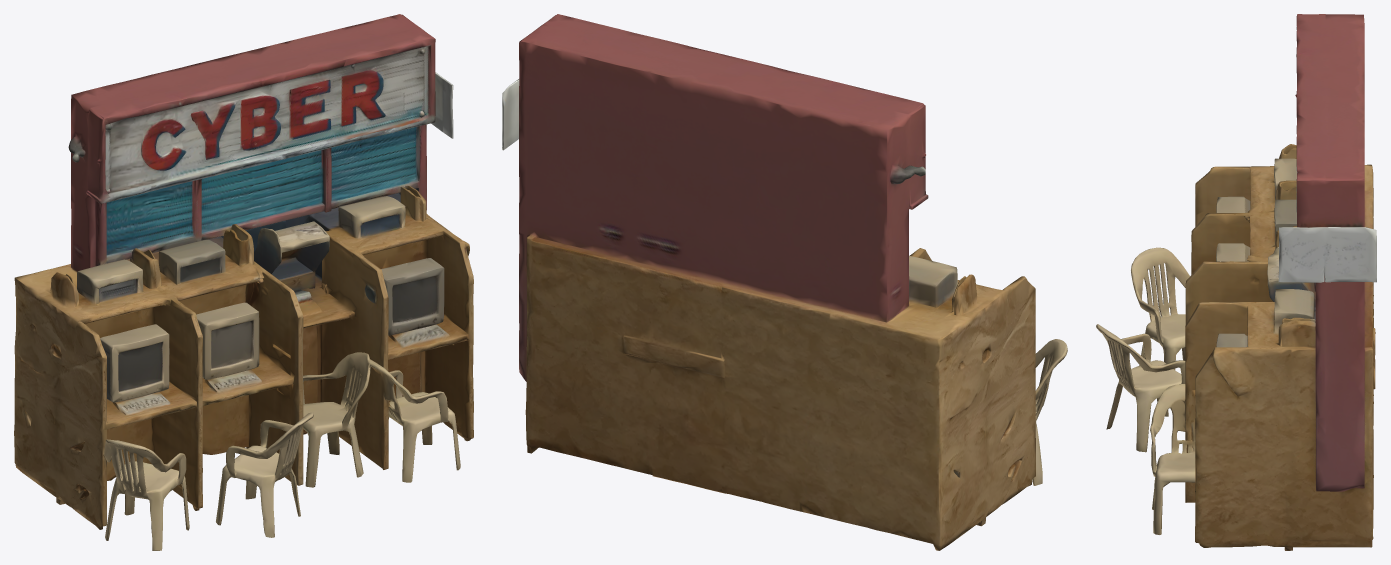
The model's file is cyber_cafe.glb.
The picture shows the model from 3 angles, left to right: view 1: azimuth 30°, elevation 25°; view 2: azimuth 150°, elevation 25°; view 3: azimuth 270°, elevation 25°; orthographic projection. The views are drawn at different scales.
Visible parts, largest first — view 1: tripo_node_f0c2598e-393c-4bfc-a3c4-9ff50b2b5c10; view 2: tripo_node_f0c2598e-393c-4bfc-a3c4-9ff50b2b5c10; view 3: tripo_node_f0c2598e-393c-4bfc-a3c4-9ff50b2b5c10.
Boxes of the visible parts, bbox=[...] form: tripo_node_f0c2598e-393c-4bfc-a3c4-9ff50b2b5c10: bbox=[14, 14, 473, 550]; tripo_node_f0c2598e-393c-4bfc-a3c4-9ff50b2b5c10: bbox=[502, 14, 1067, 550]; tripo_node_f0c2598e-393c-4bfc-a3c4-9ff50b2b5c10: bbox=[1096, 14, 1376, 550].
Size of the model in its own units: 1 by 0.8803 by 0.5921.
1 material, 1 textured.
